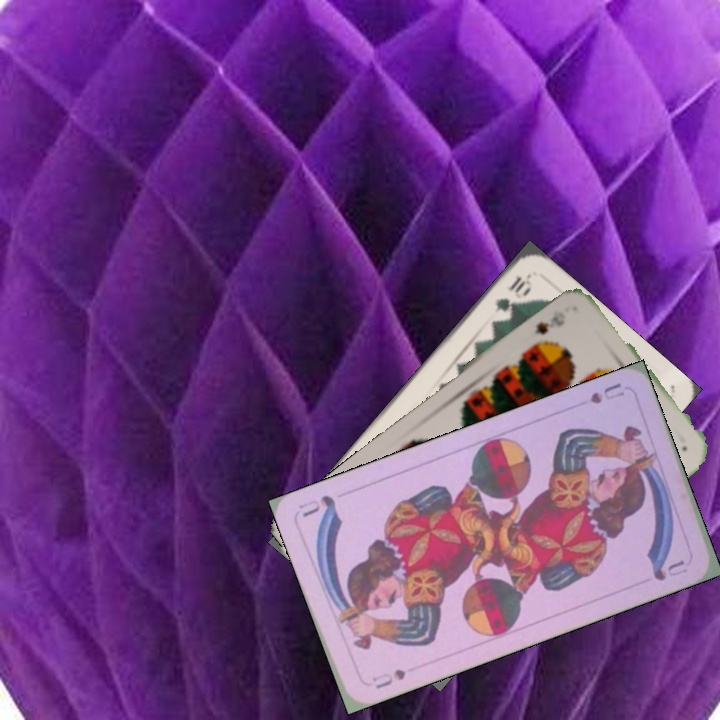G10: (490, 271, 535, 316)
S9: (530, 306, 568, 337)
SU: (586, 378, 627, 407), (368, 665, 409, 692)
